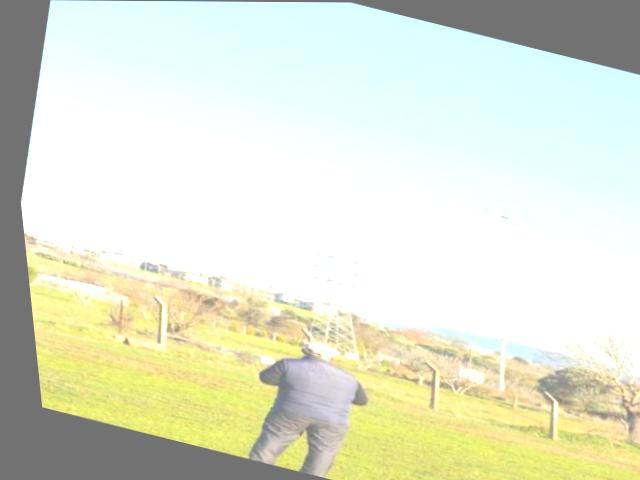iha: (479, 207, 517, 222)
